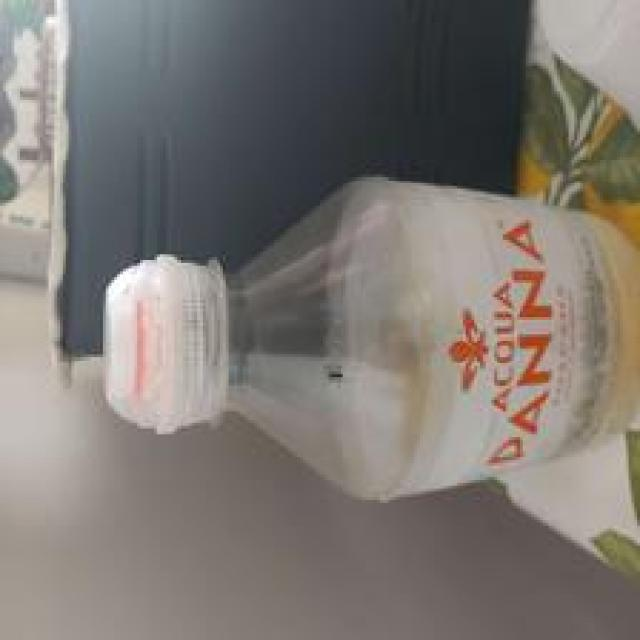Aedes albopictus: (100, 171, 640, 506)
